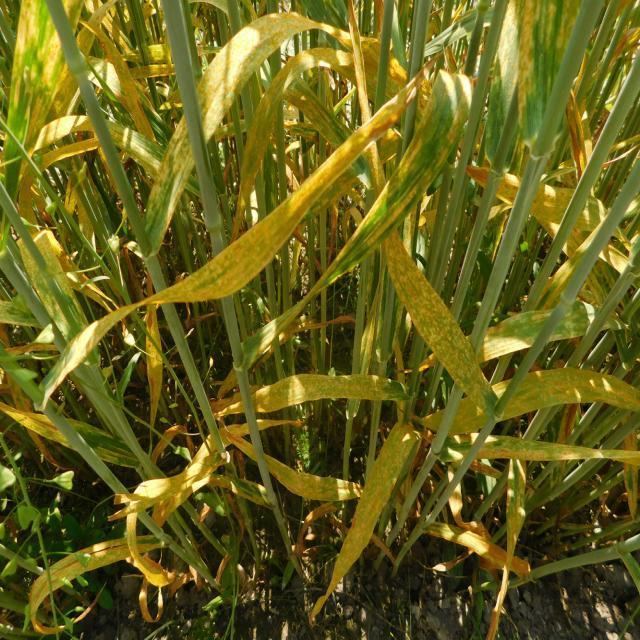Yellow Rust: (391, 254, 496, 413), (326, 429, 417, 590), (494, 367, 638, 419)
